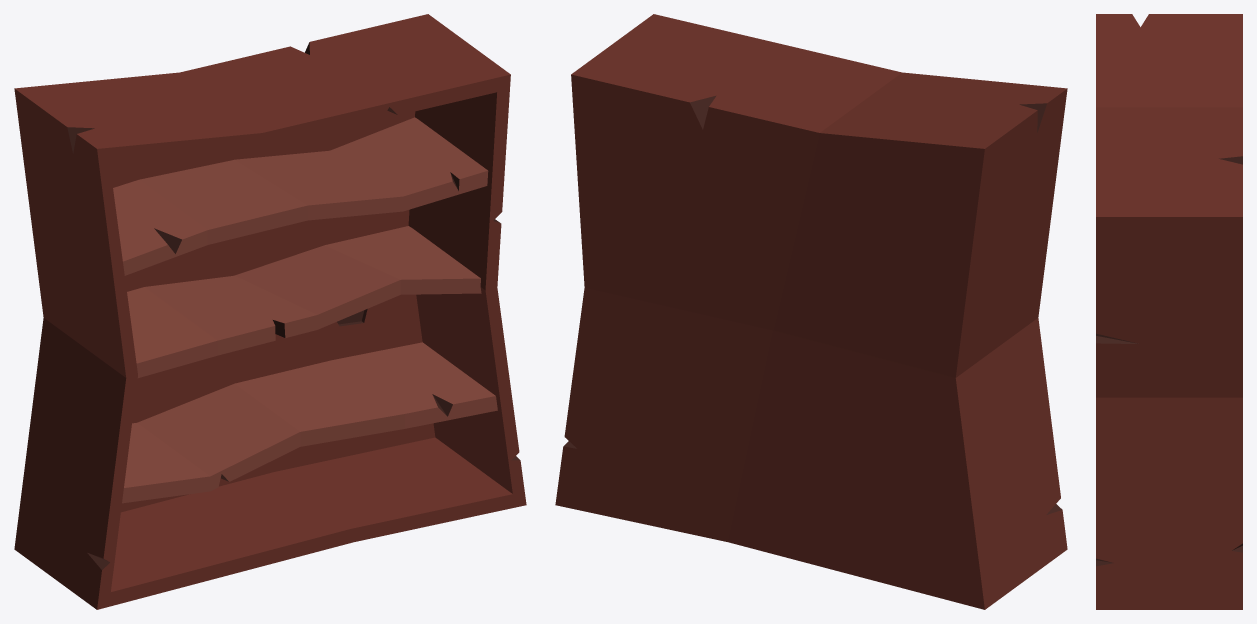
File: Shelf_2_Red.fbx
The picture shows the model from 3 angles, left to right: view 1: azimuth 30°, elevation 25°; view 2: azimuth 150°, elevation 25°; view 3: azimuth 270°, elevation 25°; orthographic projection. The views are drawn at different scales.
Visible parts, largest first — view 1: Shelf_2_Red_Part_1, Shelf_2_Red_Part_2, Shelf_2_Red_Part_3; view 2: Shelf_2_Red_Part_1, Shelf_2_Red_Part_3; view 3: Shelf_2_Red_Part_1, Shelf_2_Red_Part_3.
Part boxes in pixels (<box>): Shelf_2_Red_Part_1: <box>14,14,526,609</box>; Shelf_2_Red_Part_2: <box>113,117,497,503</box>; Shelf_2_Red_Part_3: <box>67,42,520,569</box>; Shelf_2_Red_Part_1: <box>555,14,1067,609</box>; Shelf_2_Red_Part_3: <box>563,95,1062,514</box>; Shelf_2_Red_Part_1: <box>1096,14,1242,609</box>; Shelf_2_Red_Part_3: <box>1096,156,1242,566</box>.
Size of the model in its own units: 150 by 154 by 50.
